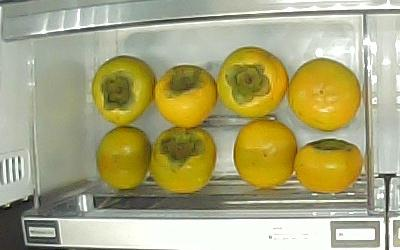persimmon: (287, 56, 361, 131), (217, 46, 289, 117), (150, 126, 217, 195), (91, 55, 156, 126), (232, 119, 298, 188), (295, 138, 364, 196), (155, 64, 217, 128), (94, 127, 151, 189)
